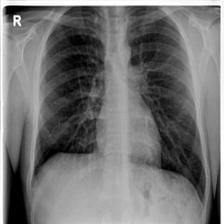tuberculosis: (27, 5, 211, 205)
